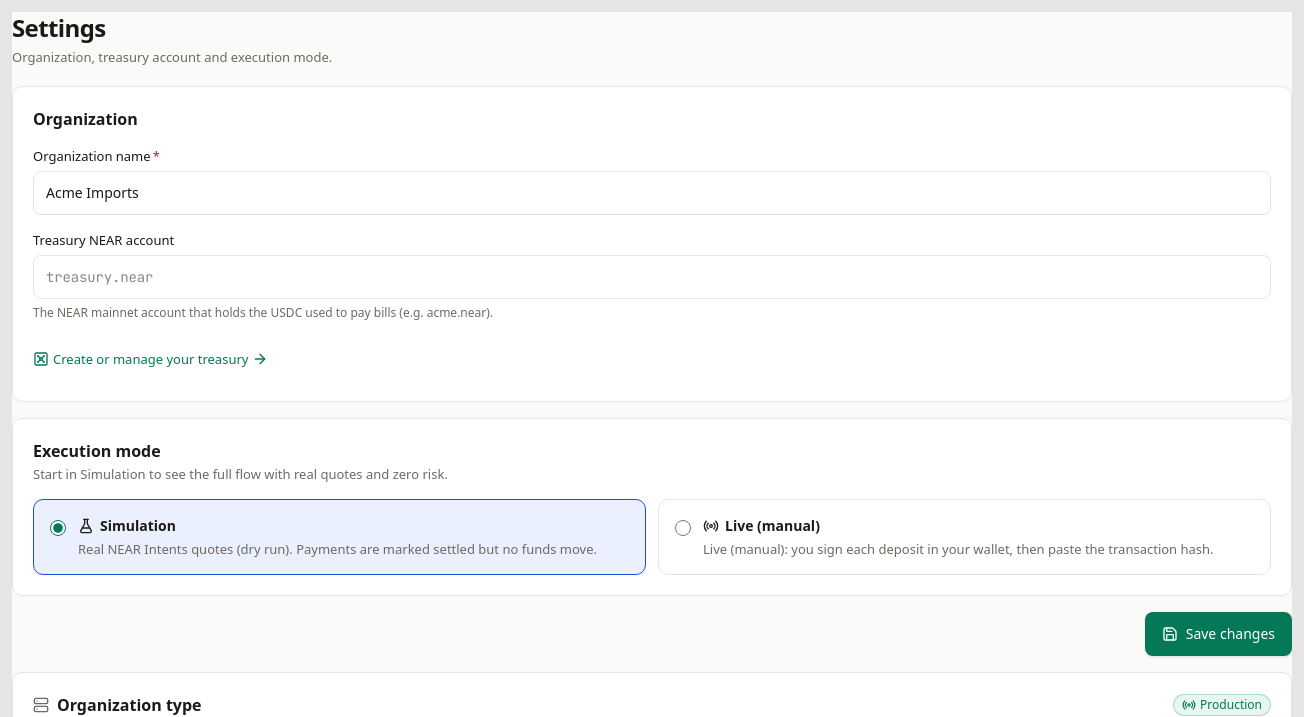
settings: treasury balance › shows the server error when the account does not exist on mainnet
The image size is (1304, 717).
Type "nobody-here-123.near" into the field labelled "Treasury NEAR account".
click(652, 277); type("nobody-here-123.near")  # box [33,255,1271,299]
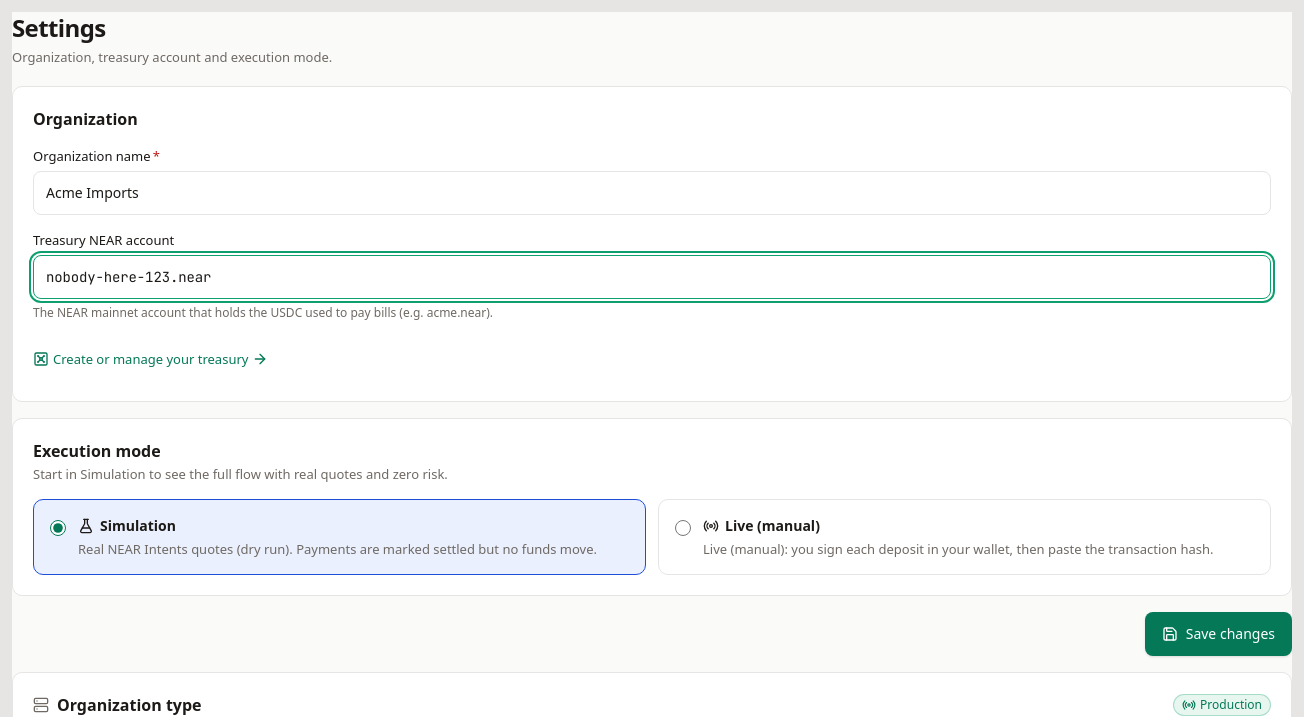
Click the button "Save changes".
click(1218, 634)  # box [1145,612,1292,656]
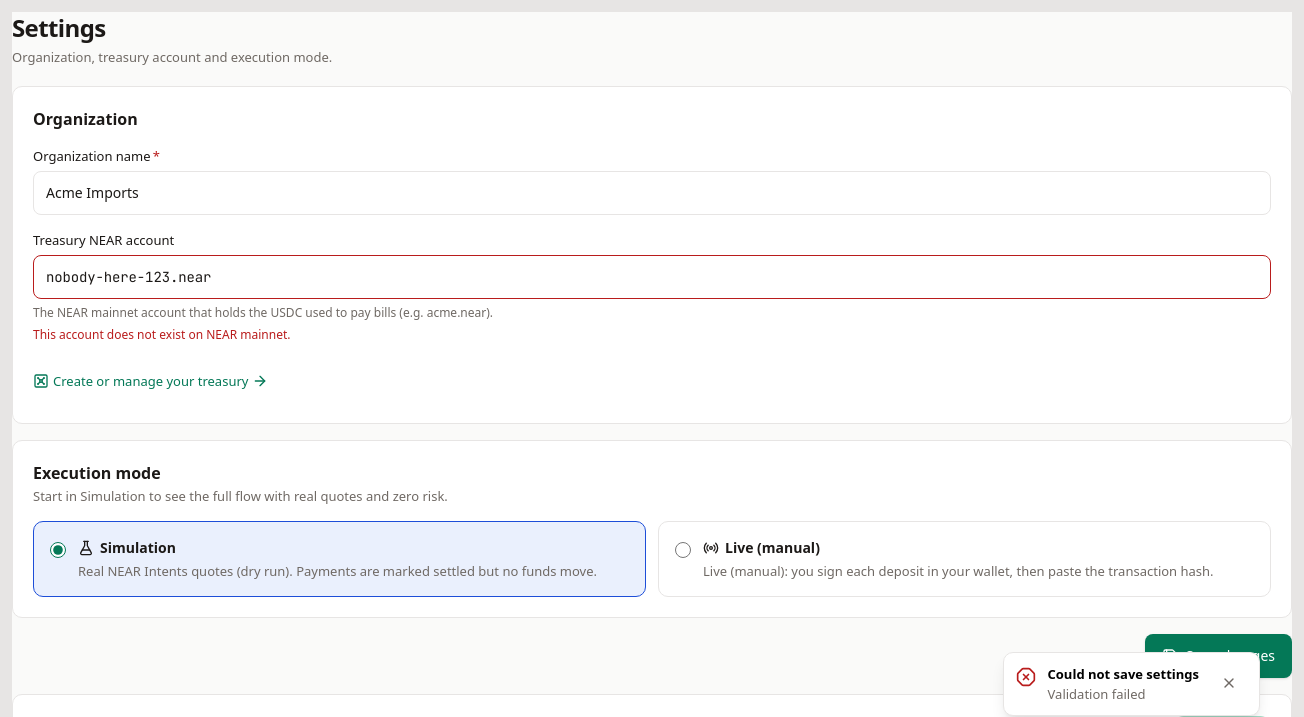
Expected: the text "This account does not exist on NEAR mainnet." is shown, [33,326,290,343]
